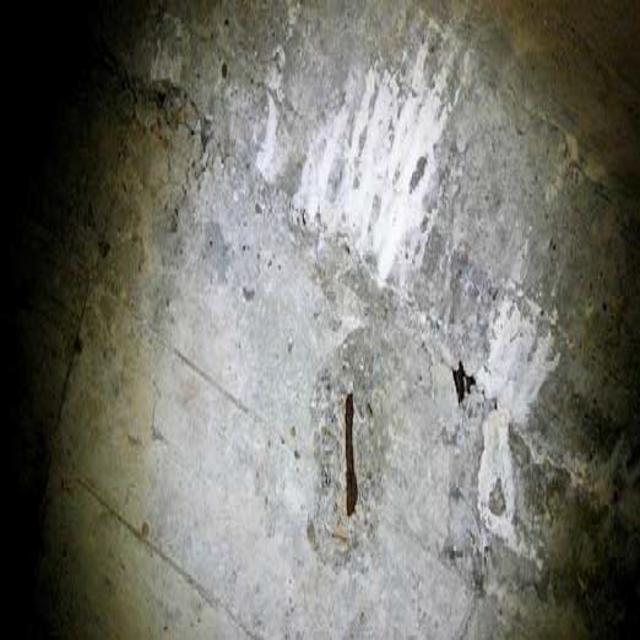freelime: (254, 53, 467, 284), (482, 279, 578, 570)
spalling: (290, 333, 409, 576)
